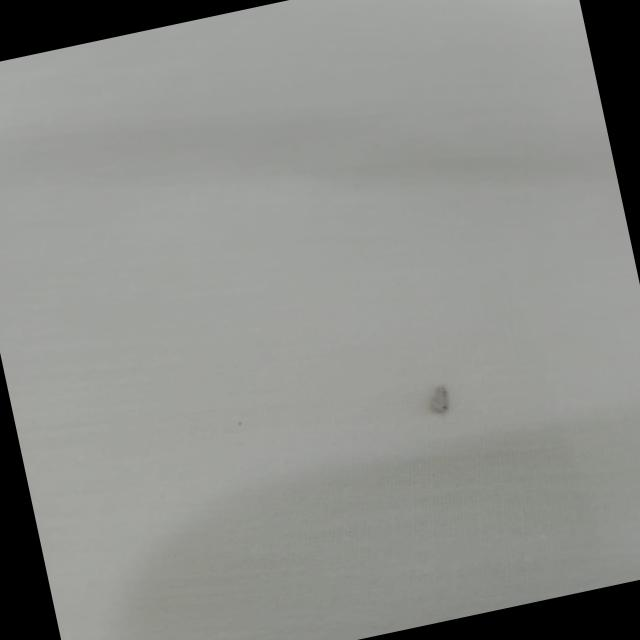stain: (405, 364, 475, 428)
